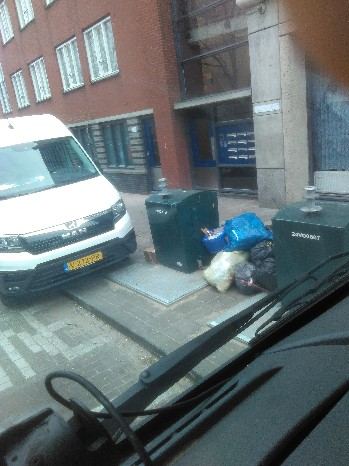Container: (271, 199, 344, 296), (148, 195, 207, 289)
Rest: (227, 213, 264, 253), (214, 262, 257, 296), (256, 238, 274, 300), (211, 231, 233, 264)
Voertuig: (0, 107, 131, 280)
